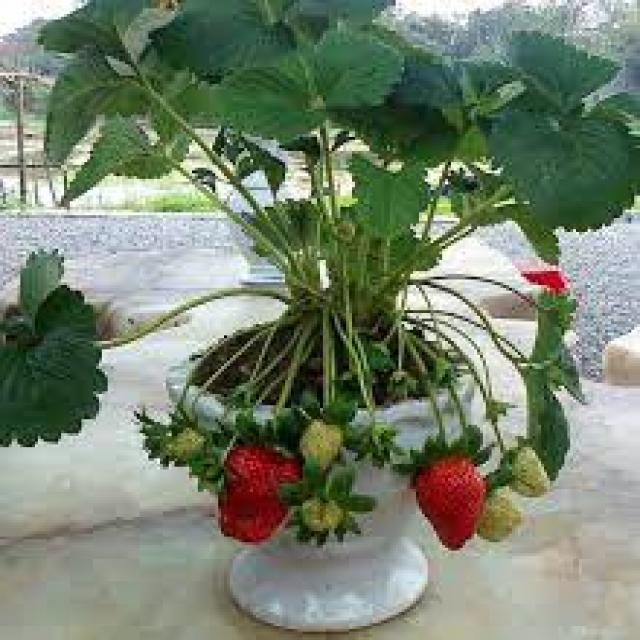Fruta sana: (214, 436, 298, 542), (411, 447, 484, 552)
